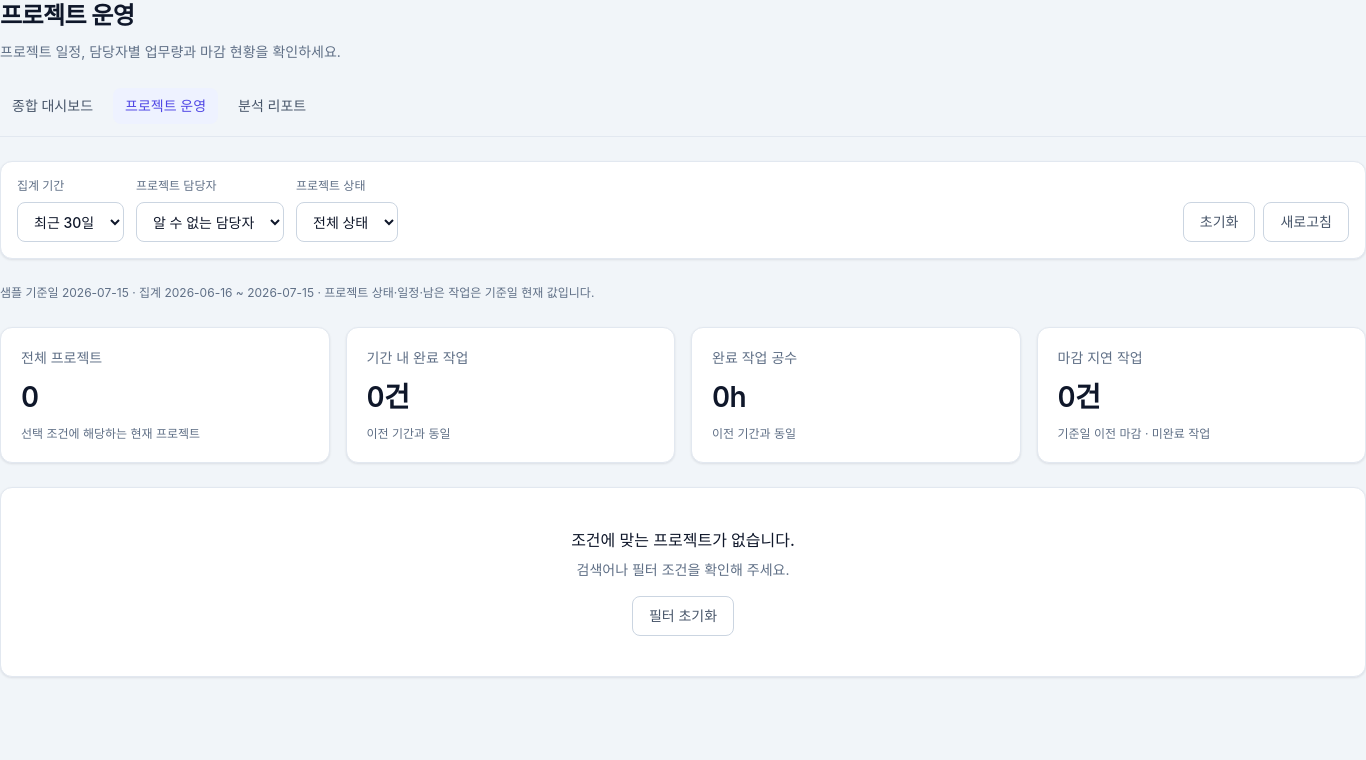
Test case: dashboard pages › 없는 담당자의 빈 결과에서 필터를 초기화한다
The width and height of the screenshot is (1366, 760).
Expected: the text "조건에 맞는 프로젝트가 없습니다." is shown, [571,530,795,550]
Click the button "필터 초기화".
click(683, 616)  # box [632,596,734,636]
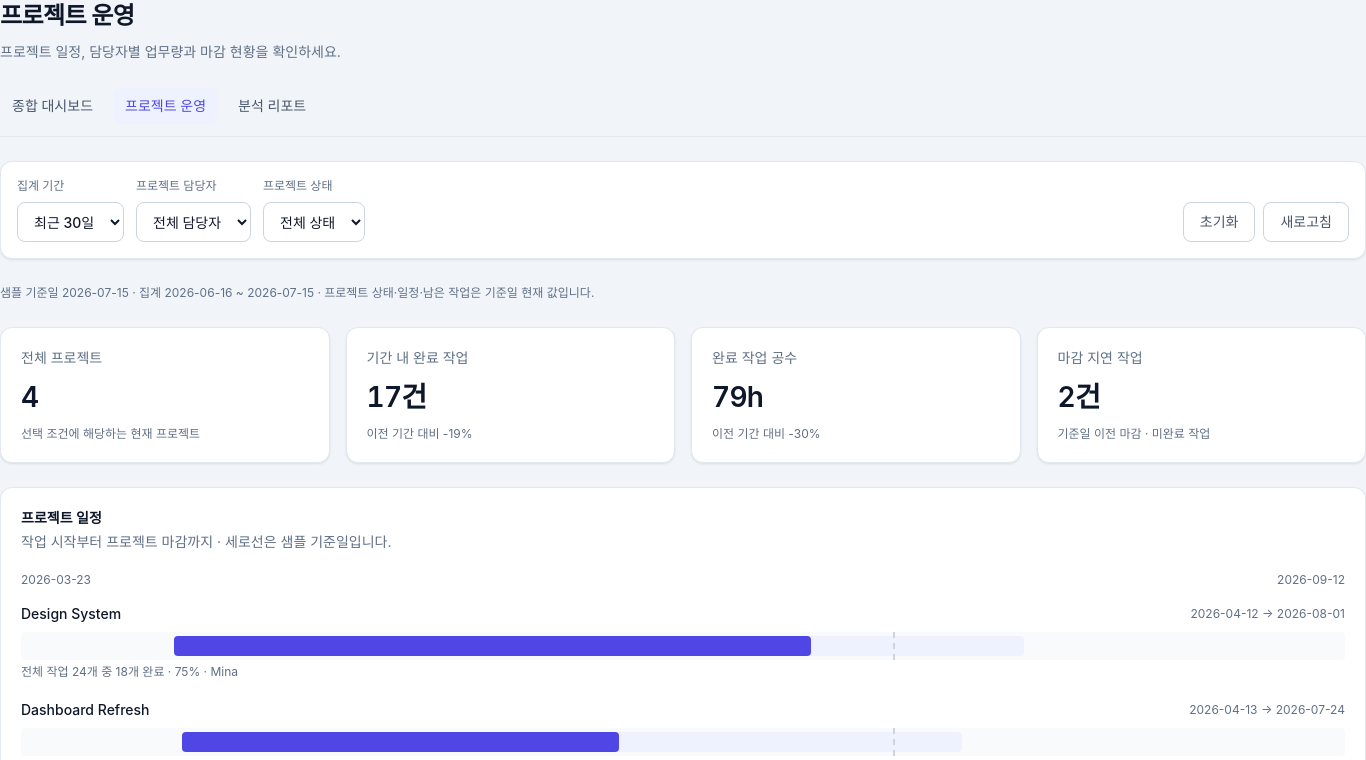
Now the heading "프로젝트 일정" is shown, box [21,508,102,526]
